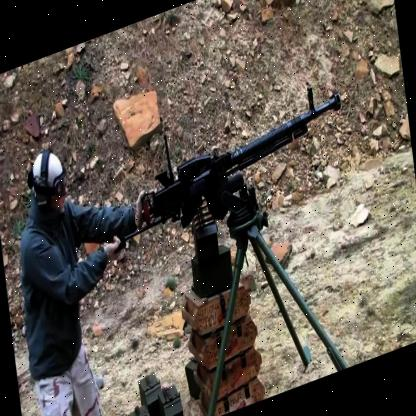rifle: (147, 87, 355, 227)
